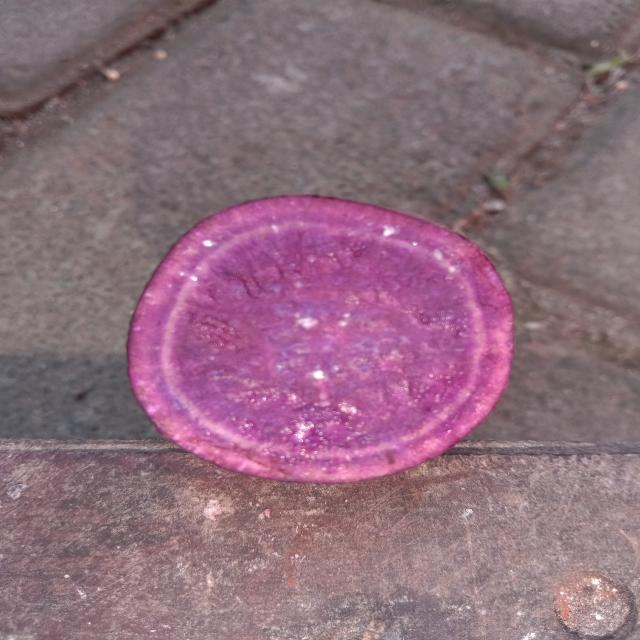Healthy Sweet Potato: (128, 195, 513, 484)
